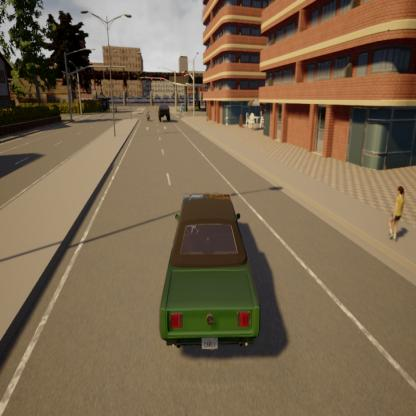Cars: (156, 184, 265, 368), (158, 104, 172, 124)
Pedestrian: (382, 180, 408, 247)
